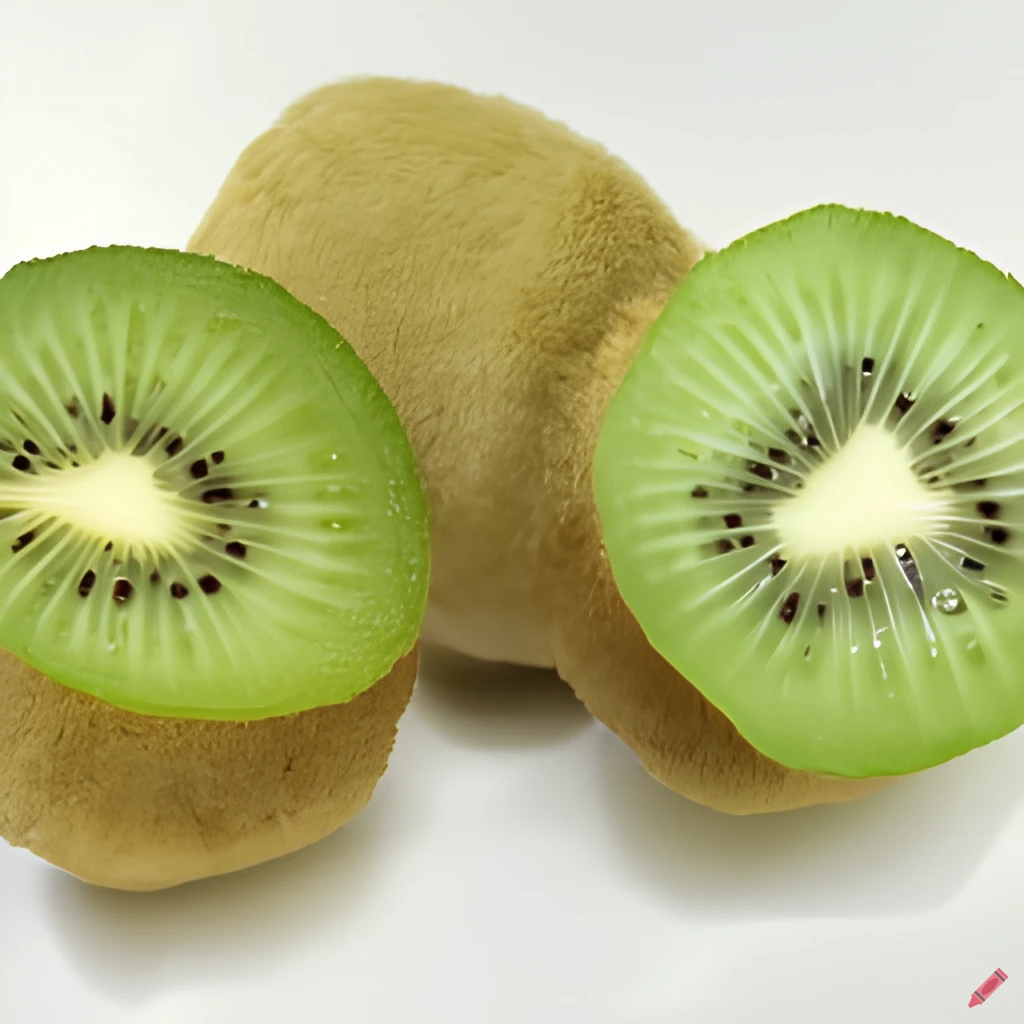Kiwi: (542, 183, 1024, 816)
